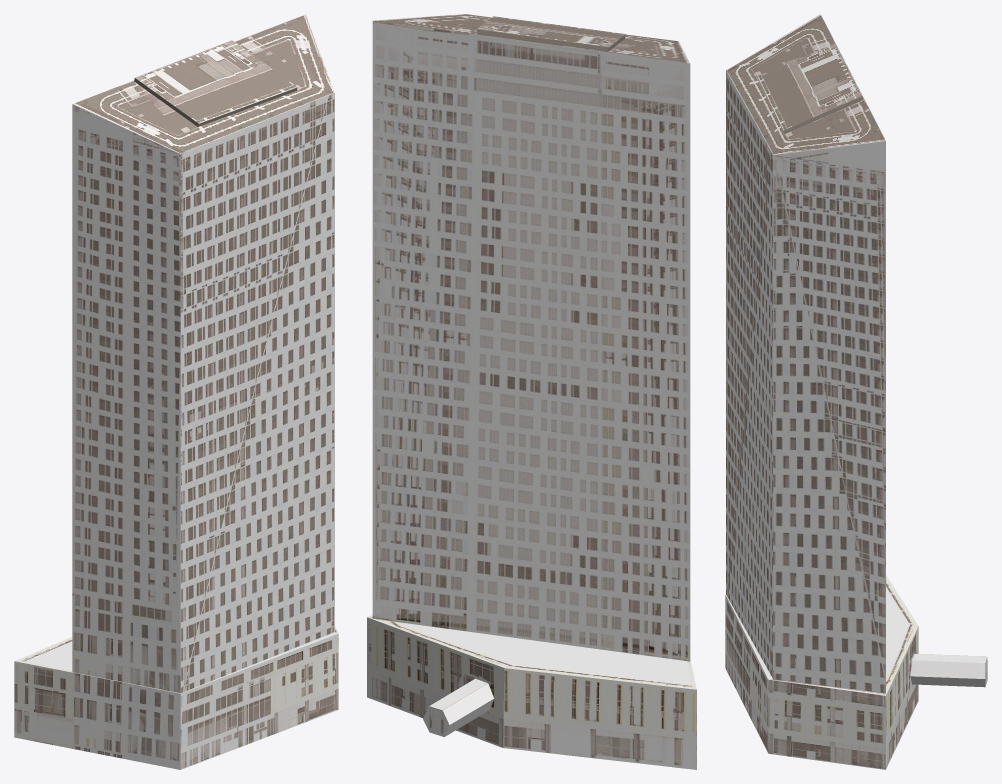
3 renders of one model, left to right at view 1: azimuth 30°, elevation 25°; view 2: azimuth 150°, elevation 25°; view 3: azimuth 270°, elevation 25°, orthographic. The views are drawn at different scales.
Visible parts, largest first — view 1: 6.001; view 2: 6.001; view 3: 6.001.
Boxes of the visible parts, left/top/right/bottom form: 6.001: left=14, top=14, right=338, bottom=769; 6.001: left=367, top=14, right=696, bottom=769; 6.001: left=725, top=14, right=987, bottom=769.
Size of the model in its own units: 69.14 by 140 by 52.88.
Materials: 1 (1 with a texture image).
